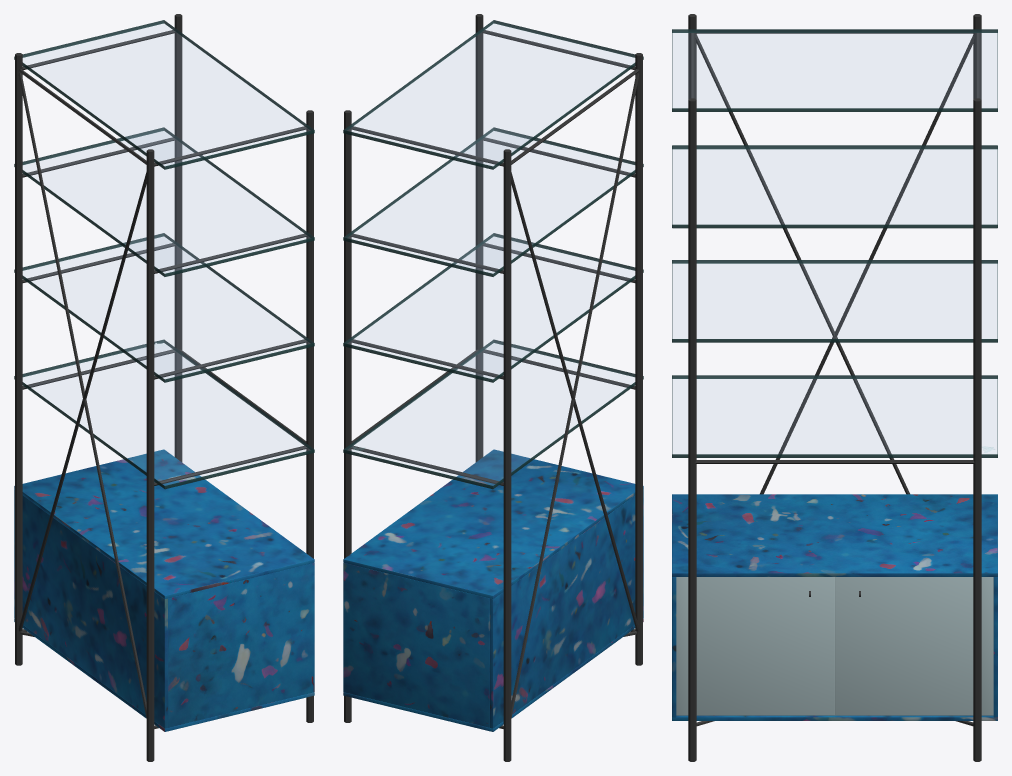
Rendered from nelson_4.glb.
3 renders of one model, left to right at view 1: azimuth 30°, elevation 25°; view 2: azimuth 150°, elevation 25°; view 3: azimuth 270°, elevation 25°, orthographic. The views are drawn at different scales.
Visible parts, largest first — view 1: Scaffale; view 2: Scaffale; view 3: Scaffale.
Boxes of the visible parts, x1,y1,x2,y2 form: Scaffale: [14, 14, 314, 761]; Scaffale: [343, 14, 643, 761]; Scaffale: [672, 14, 997, 761].
Bounding box in the file's own units: 0.5075 × 1.79 × 0.8.
Materials: 7 (1 with a texture image).
